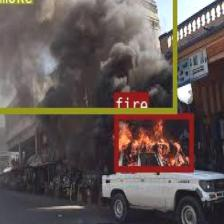fire: (114, 113, 192, 170)
smoke: (0, 0, 177, 112)
